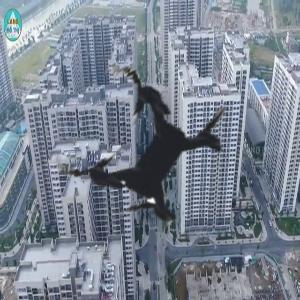drone: (6, 12, 290, 296)
